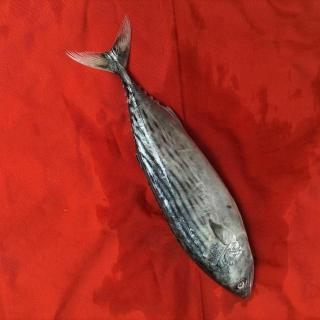Ikan: (66, 26, 270, 311)
